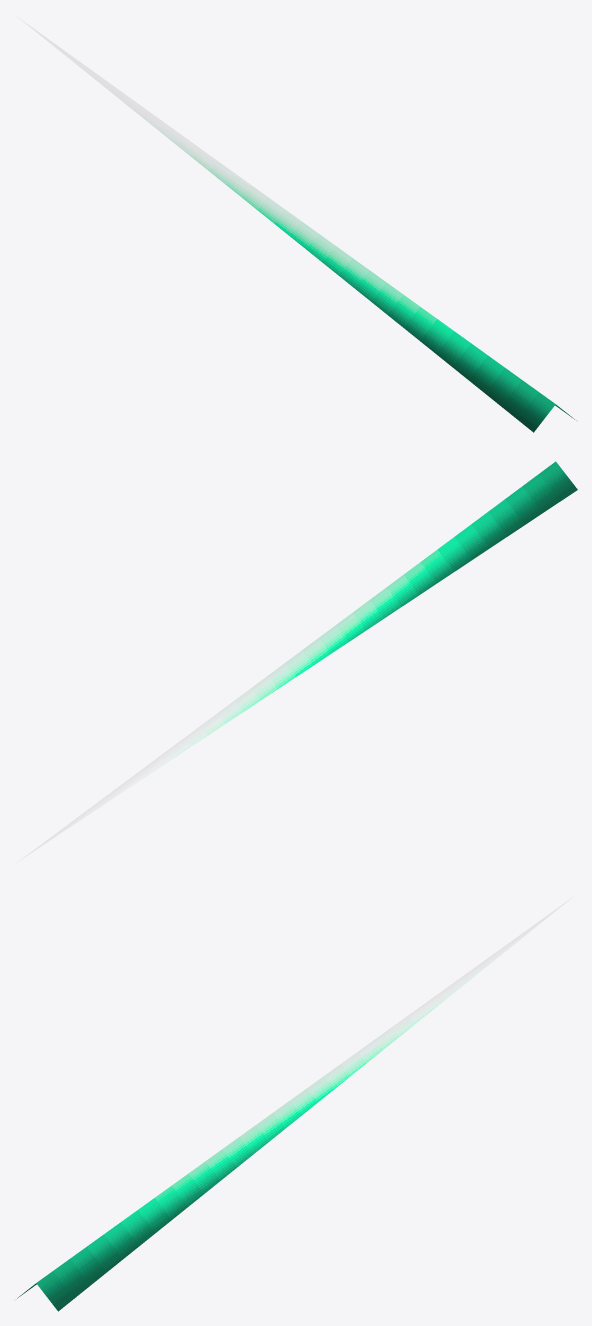
3 renders of one model, top to bottom at view 1: azimuth 30°, elevation 25°; view 2: azimuth 150°, elevation 25°; view 3: azimuth 330°, elevation 25°, orthographic.
Parts seen in each view (by area): view 1: f47fb773; view 2: f47fb773; view 3: f47fb773.
Boxes of the visible parts, left/top/right/bottom form: f47fb773: left=16, top=16, right=576, bottom=432; f47fb773: left=17, top=461, right=577, bottom=862; f47fb773: left=17, top=895, right=575, bottom=1311.
Size of the model in its own units: 0.9248 by 0.4624 by 19.62.
Materials: 1 (1 with a texture image).
